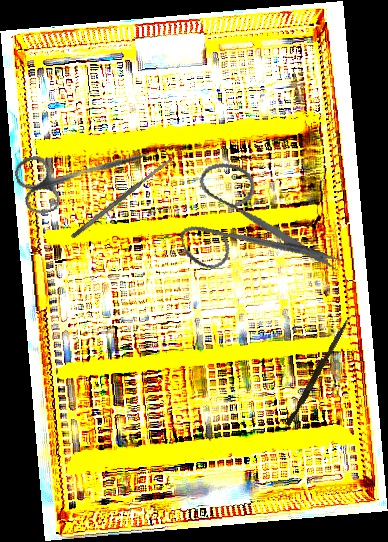Iris Scissors: (163, 137, 346, 312), (11, 123, 158, 219)
Pusher: (285, 314, 351, 428)
Spatula Surgical: (69, 156, 175, 240)
